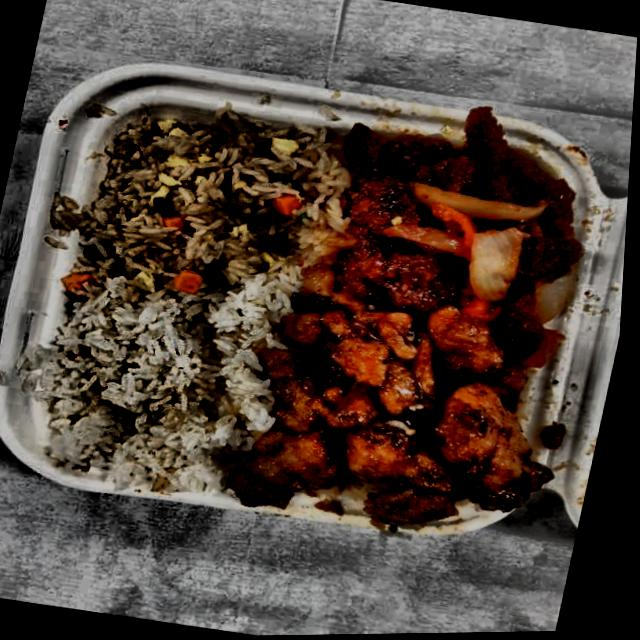Food: (231, 275, 583, 550), (47, 88, 370, 344), (307, 98, 611, 335), (29, 282, 282, 501)
